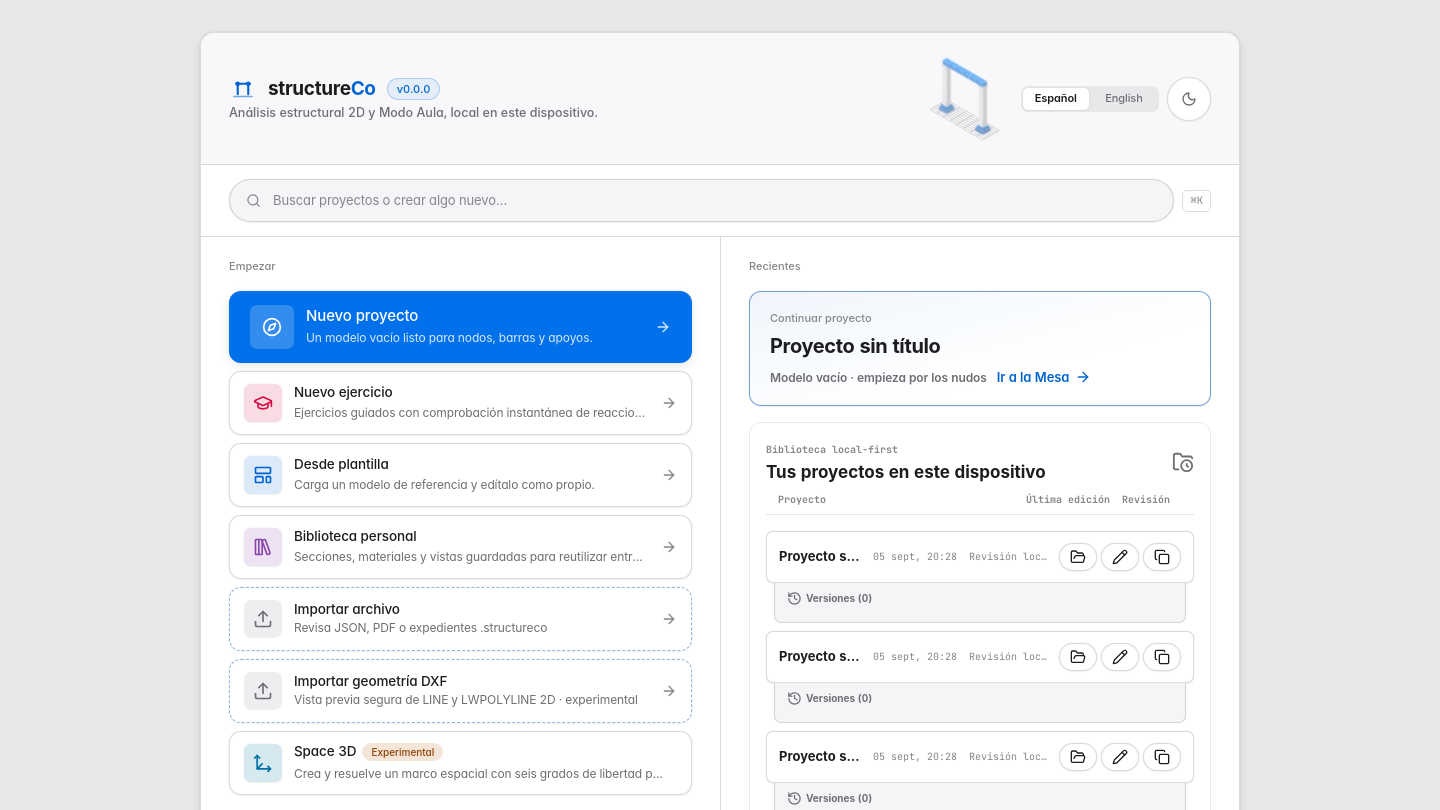
Test: WelcomeScreen · el buscador › recorta la lista de "Empezar" por nombre o descripción
The width and height of the screenshot is (1440, 810).
In the field labelled "Buscar proyectos o crear algo nuevo…": (714, 201) [271,190,1157,211], type "plantilla"
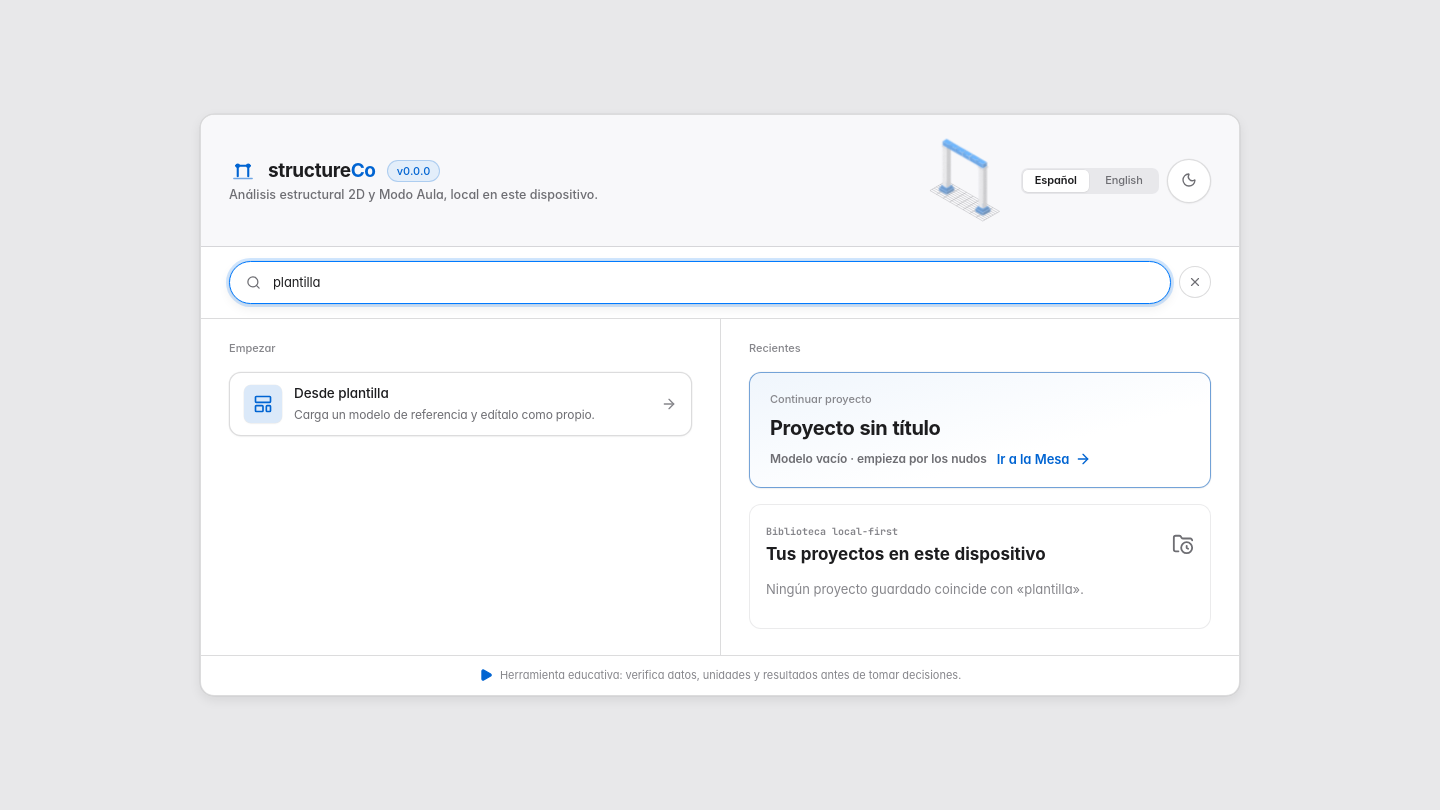
Expected: the button "Desde plantilla" is shown, [229,372,692,436]
Expected: the button "Nuevo proyecto" is gone
Expected: the button "Nuevo ejercicio" is gone
